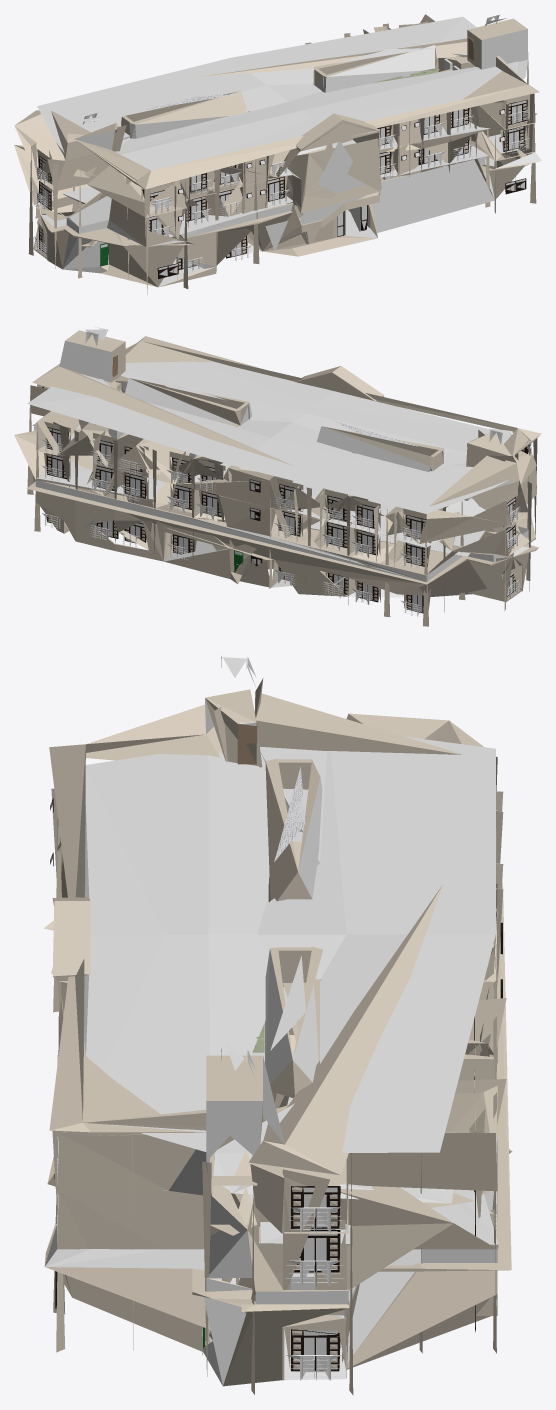
Rendered from AR Building_L2.fbx.
The picture shows the model from 3 angles, top to bottom: view 1: azimuth 30°, elevation 25°; view 2: azimuth 150°, elevation 25°; view 3: azimuth 270°, elevation 25°; orthographic projection. The views are drawn at different scales.
Parts seen in each view (by area): view 1: Stairs Side Left; view 2: Stairs Side Left; view 3: Stairs Side Left.
Part boxes in pixels (x1,y1,x2,y2): Stairs Side Left: [14, 14, 541, 294]; Stairs Side Left: [14, 327, 541, 626]; Stairs Side Left: [44, 656, 512, 1395].
Bounding box in the file's own units: 5622 × 1690 × 2349.
